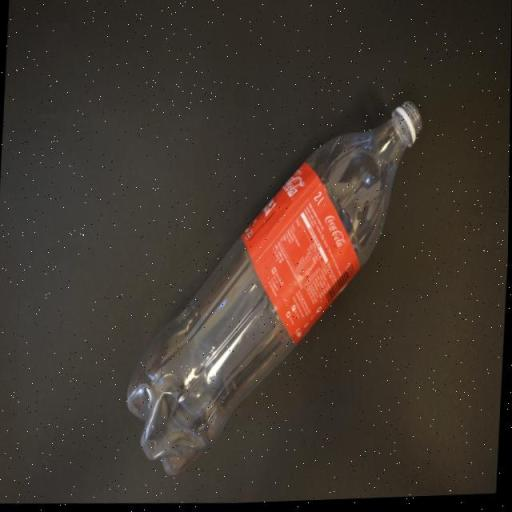plastic: (126, 107, 422, 479)
